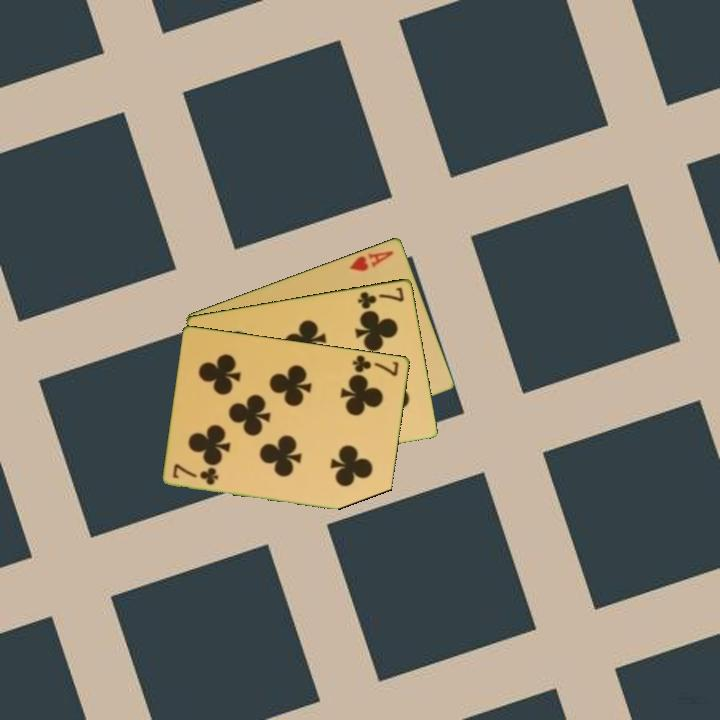7c: (354, 283, 407, 312), (349, 351, 402, 378), (170, 460, 221, 487)
Ah: (346, 247, 396, 274)
